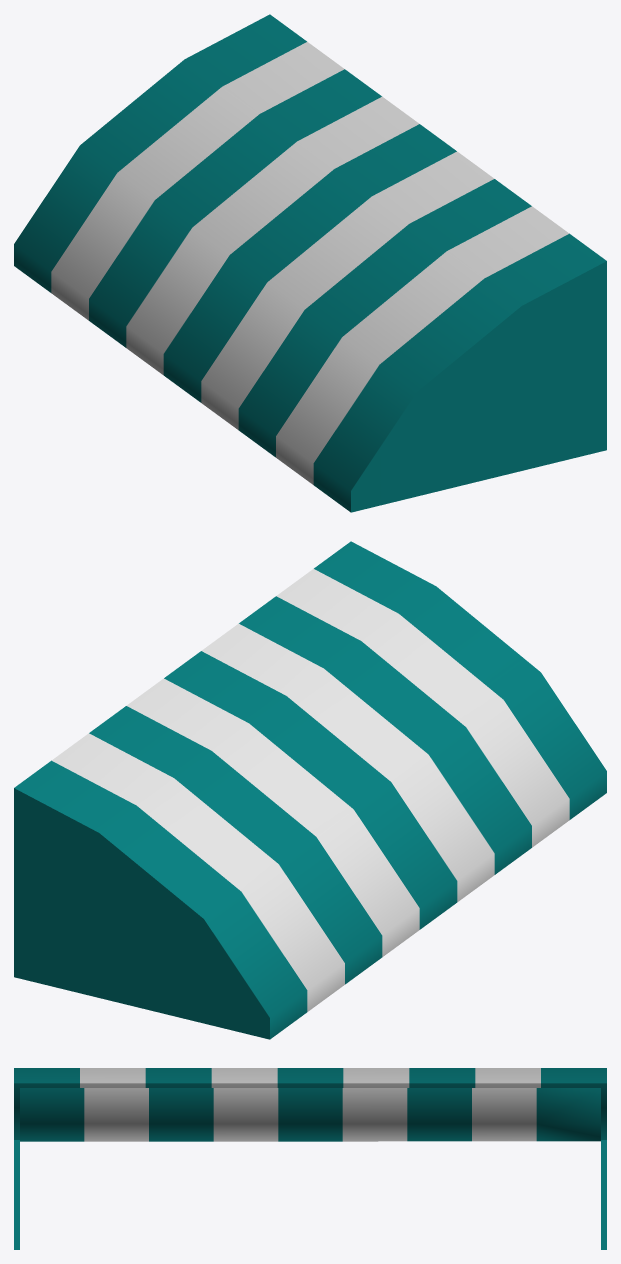
File: Awning_1_G.fbx
The picture shows the model from 3 angles, top to bottom: view 1: azimuth 30°, elevation 25°; view 2: azimuth 150°, elevation 25°; view 3: azimuth 270°, elevation 25°; orthographic projection. The views are drawn at different scales.
Visible parts, largest first — view 1: Awning_1_G; view 2: Awning_1_G; view 3: Awning_1_G.
Part boxes in pixels (left/top/right/bottom): Awning_1_G: left=14, top=14, right=606, bottom=512; Awning_1_G: left=14, top=541, right=606, bottom=1039; Awning_1_G: left=14, top=1068, right=606, bottom=1249.
Bounding box in the file's own units: 123 × 86.57 × 280.
